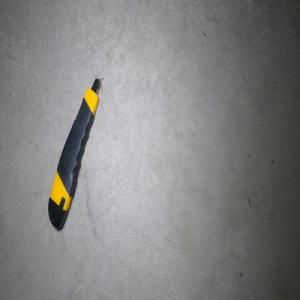Cutter: (47, 77, 102, 229)
